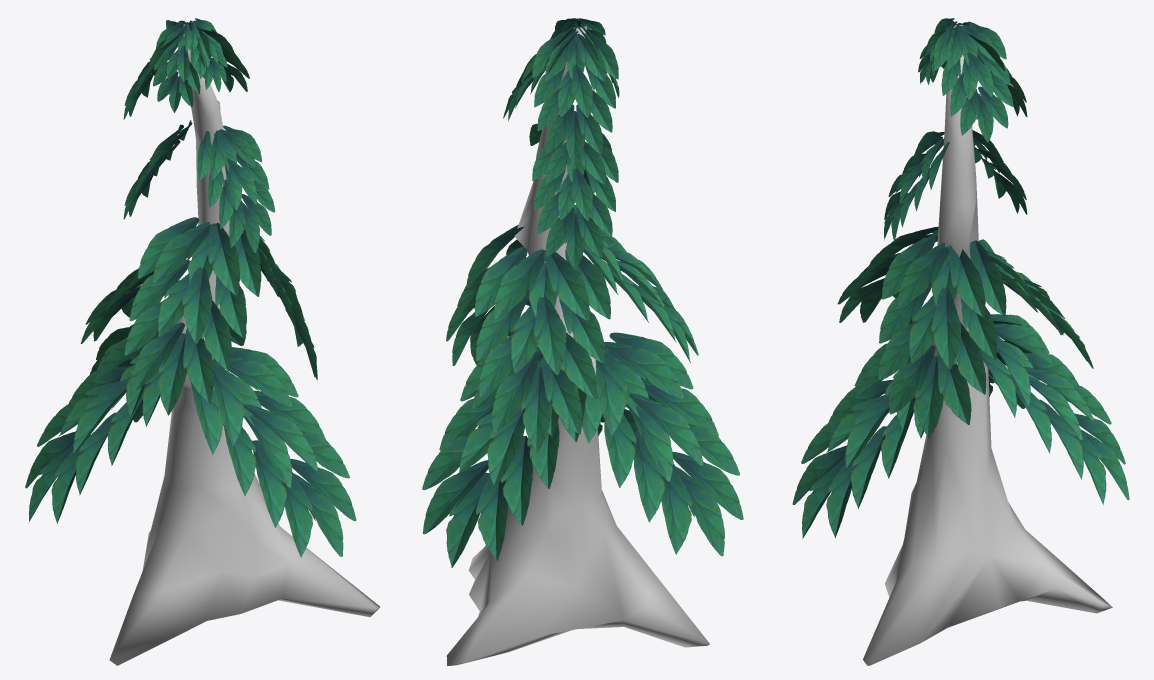
The model's file is StylisedTreeLOL3LpWithLeaves.fbx.
3 views of the same model, side by side, from view 1: azimuth 30°, elevation 25°; view 2: azimuth 150°, elevation 25°; view 3: azimuth 270°, elevation 25° (orthographic). The views are drawn at different scales.
Visible parts, largest first — view 1: lisc_cropped.010; view 2: lisc_cropped.010; view 3: lisc_cropped.010.
Boxes of the visible parts, <box> form: lisc_cropped.010: <box>25,18,379,665</box>; lisc_cropped.010: <box>422,18,743,665</box>; lisc_cropped.010: <box>792,18,1129,665</box>.
Size of the model in its own units: 118 by 224 by 122.
